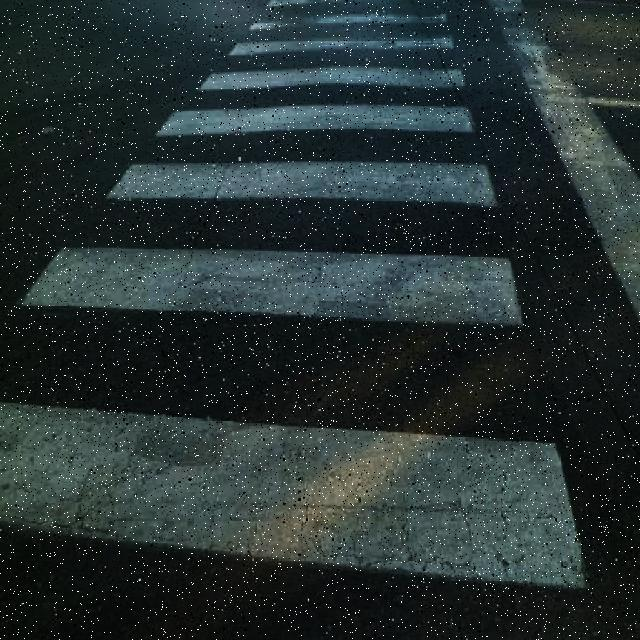Pedestrian crosswalk: (0, 0, 603, 609)
